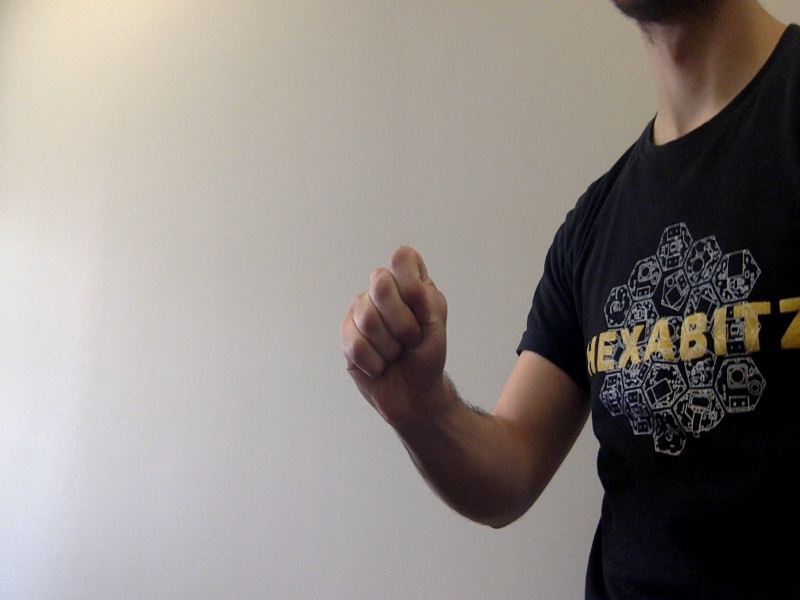0-hand: (338, 246, 448, 418)
